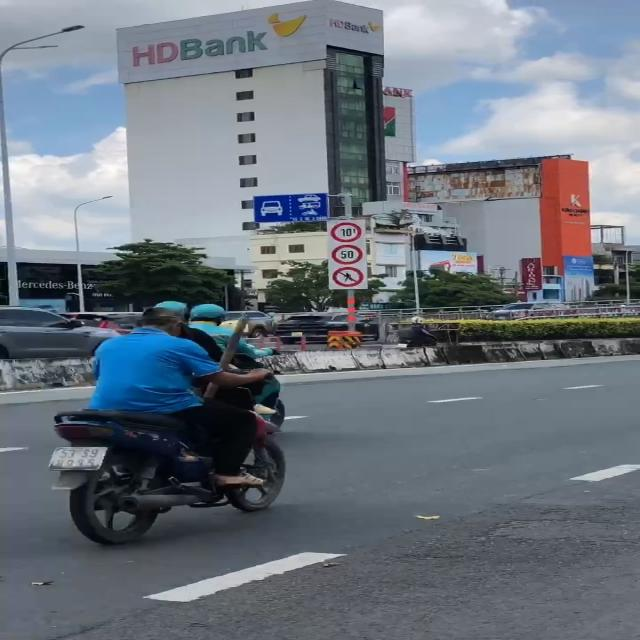Bien bao cam nguoi di bo: (330, 265, 365, 288)
Bien bao toc do toi da cho phep: (329, 243, 366, 265)
